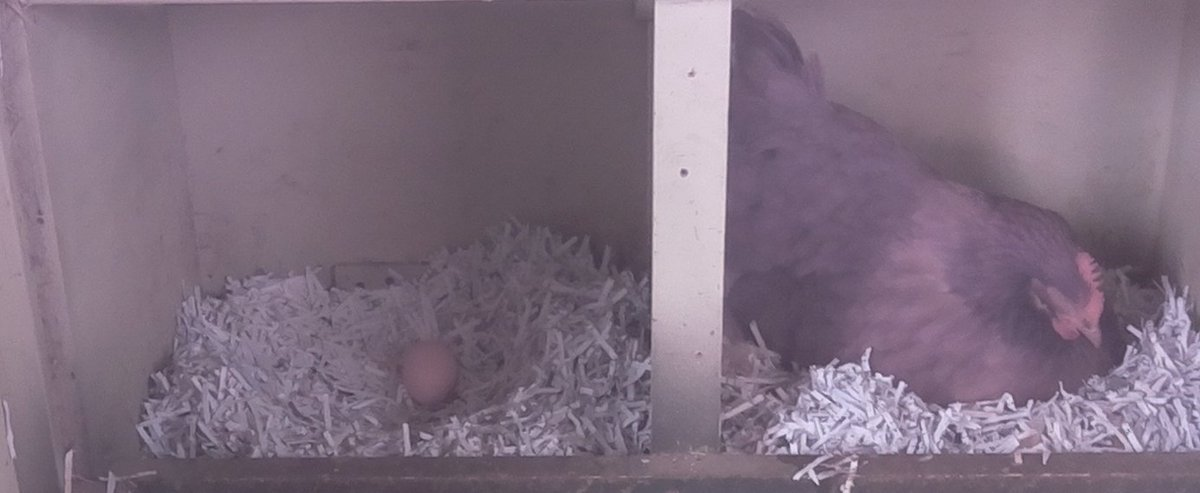egg: (397, 337, 461, 412)
hen: (731, 19, 1129, 414)
